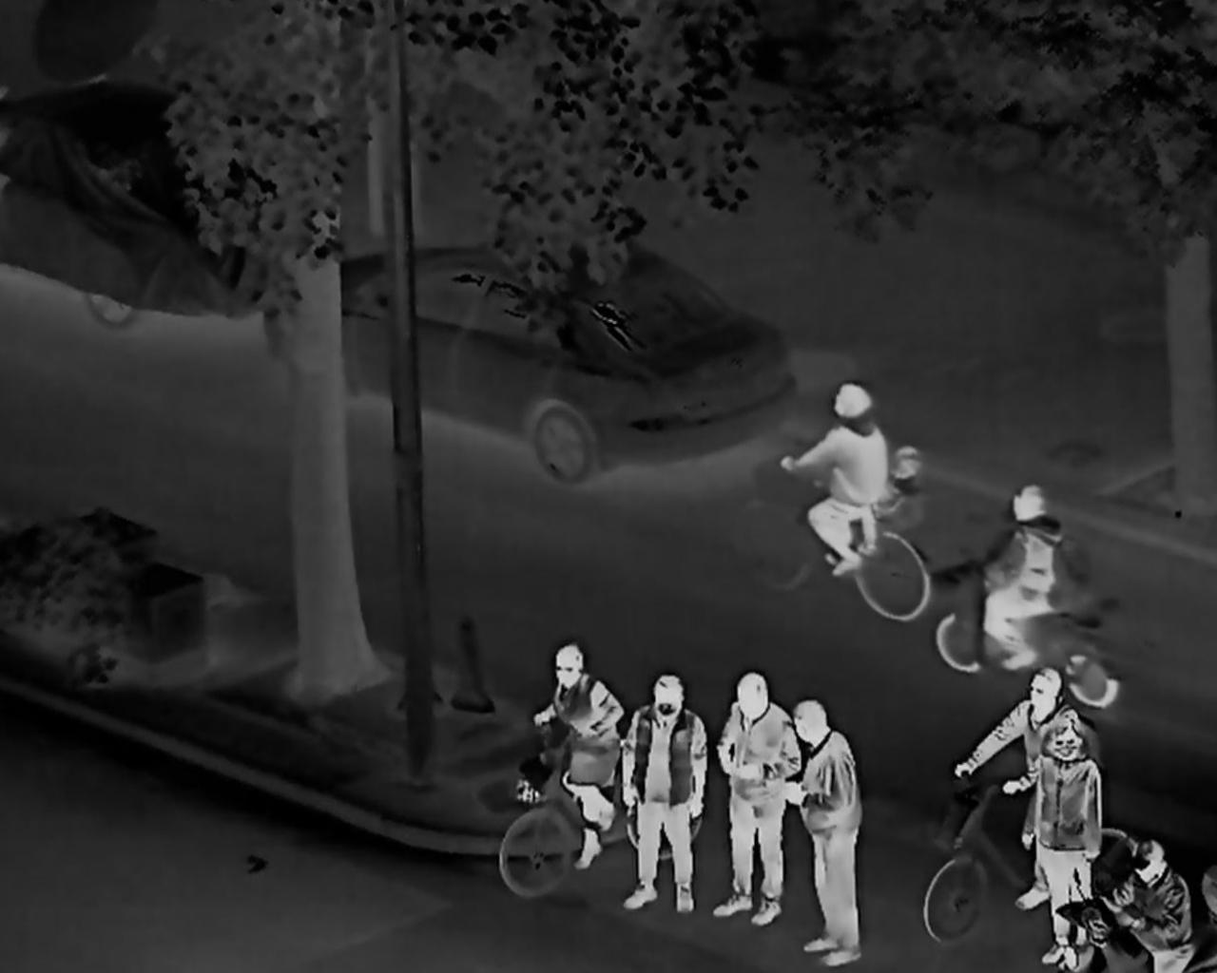person: (956, 669, 1094, 912), (785, 697, 866, 966), (713, 673, 800, 923), (781, 381, 884, 583), (620, 673, 705, 911), (532, 646, 618, 871), (1028, 722, 1102, 971), (976, 486, 1071, 677), (1103, 838, 1193, 973), (858, 446, 933, 551)
